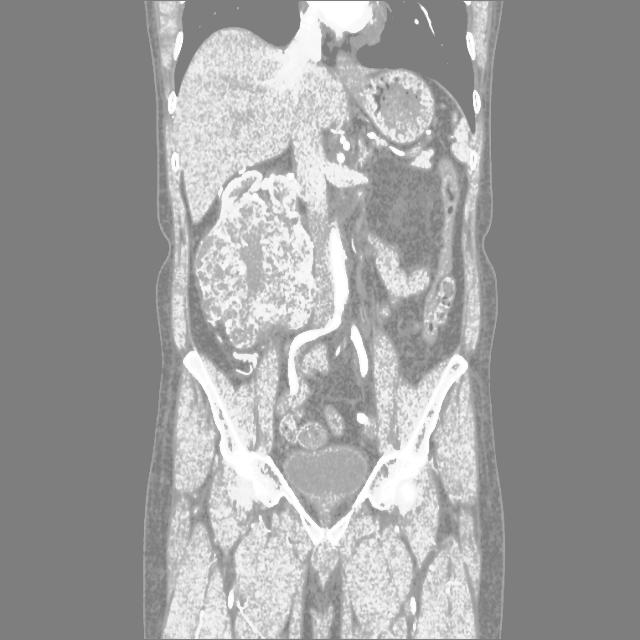TUMOR: (67, 176, 489, 323)
